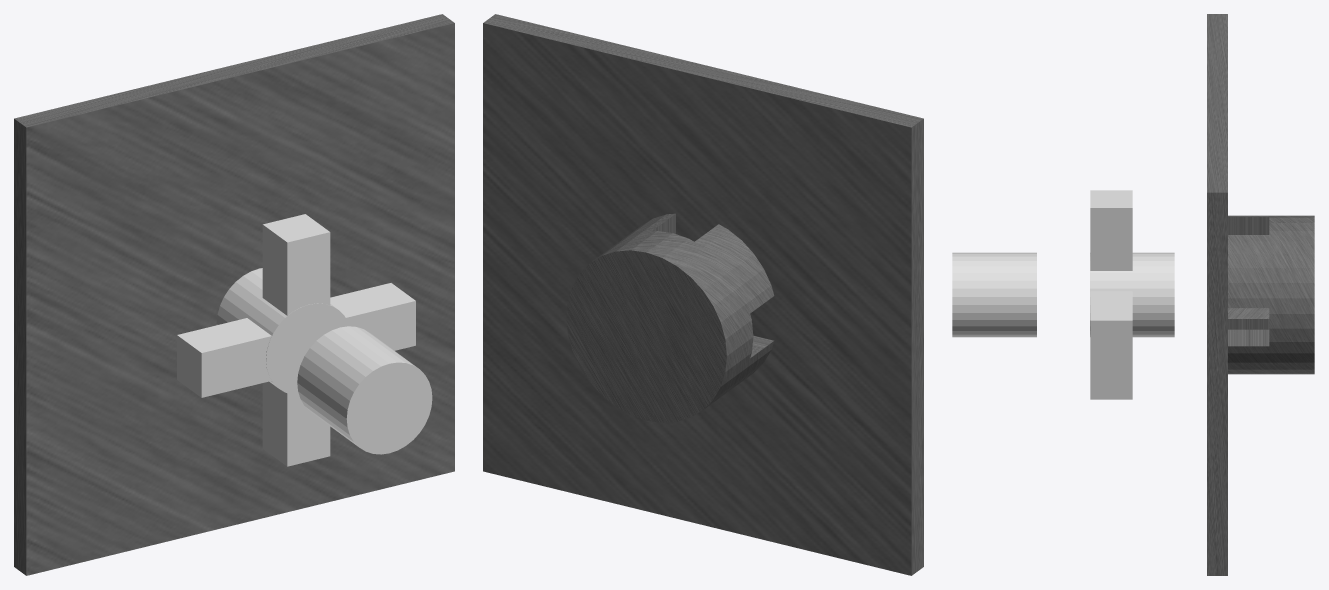
The model's file is levelTry01.fbx.
3 renders of one model, left to right at view 1: azimuth 30°, elevation 25°; view 2: azimuth 150°, elevation 25°; view 3: azimuth 270°, elevation 25°, orthographic. The views are drawn at different scales.
Visible parts, largest first — view 1: Cube, Cube.001, Cylinder.001; view 2: Cube, Cylinder; view 3: Cylinder, Cube.001, Cube, Cylinder.001.
Part boxes in pixels (bbox=[...]): Cube: bbox=[14, 14, 454, 575]; Cube.001: bbox=[177, 214, 415, 466]; Cylinder.001: bbox=[297, 326, 432, 454]; Cube: bbox=[483, 14, 923, 575]; Cylinder: bbox=[566, 213, 774, 422]; Cylinder: bbox=[1228, 215, 1314, 374]; Cube.001: bbox=[1090, 190, 1174, 399]; Cube: bbox=[1207, 14, 1227, 575]; Cylinder.001: bbox=[952, 252, 1036, 337].
Size of the model in its own units: 2000 by 2000 by 1714.
